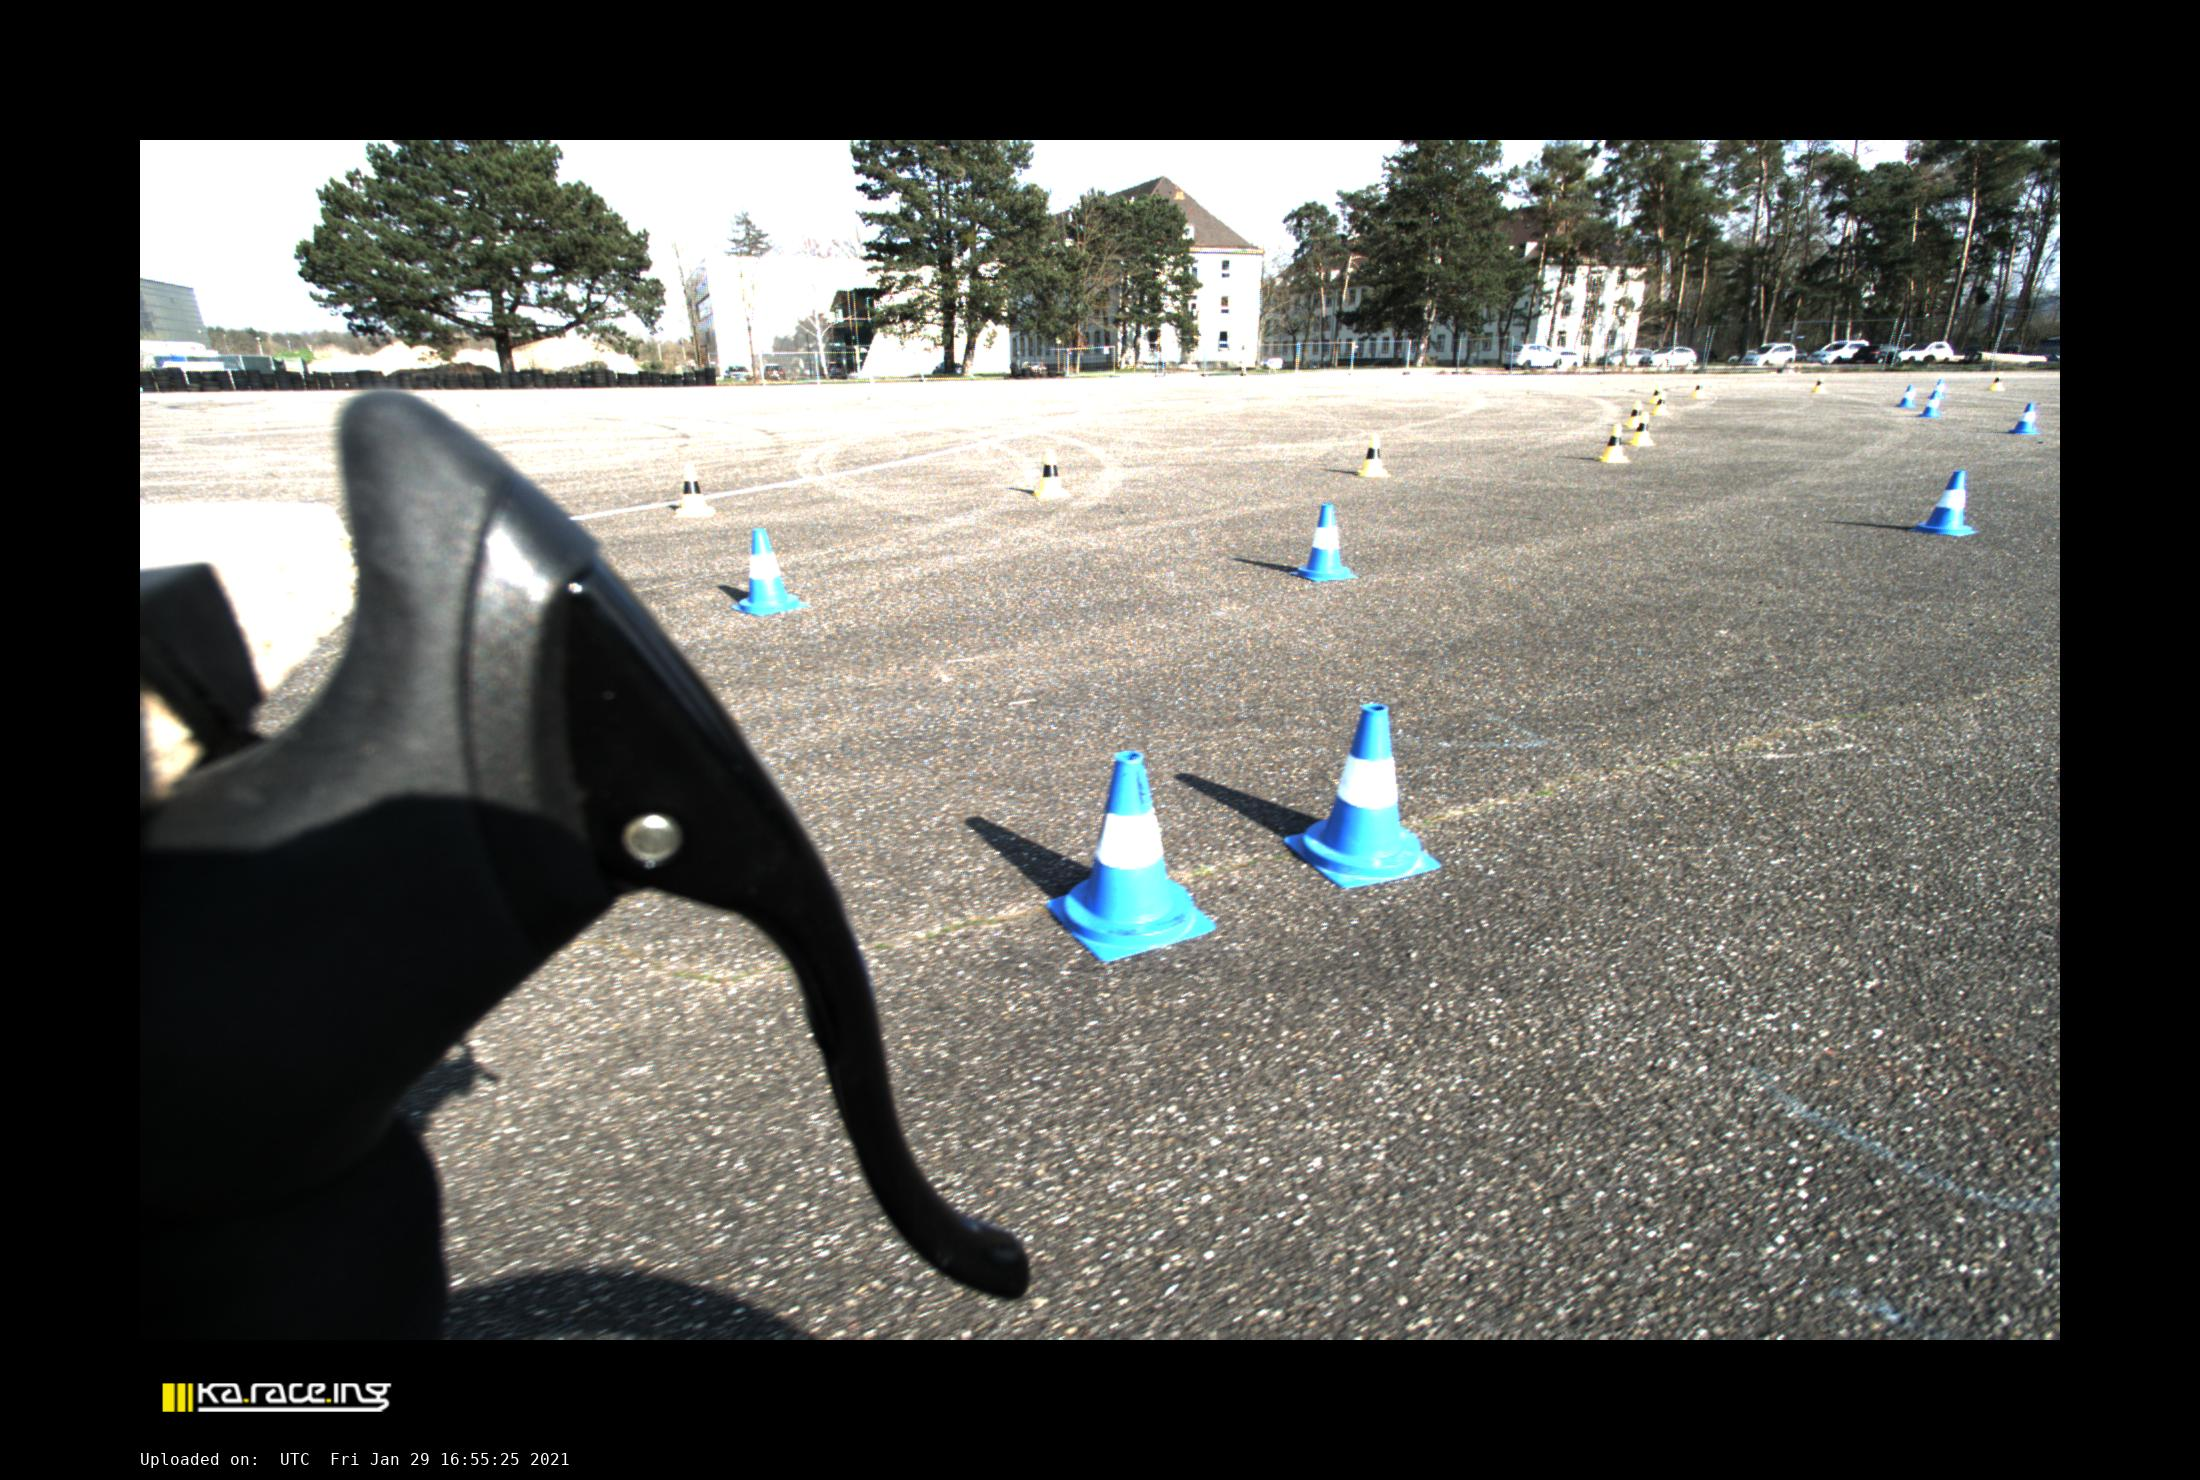blue_cone: (1047, 750, 1217, 963), (1283, 703, 1441, 889), (732, 529, 808, 617), (1290, 504, 1358, 582), (1908, 471, 1978, 536), (2008, 403, 2041, 434), (1916, 392, 1942, 418), (1895, 385, 1916, 408), (1928, 379, 1945, 399)
yellow_cone: (675, 463, 715, 518), (1033, 450, 1069, 498), (1357, 433, 1389, 477), (1599, 424, 1631, 463), (1628, 412, 1655, 446), (1625, 400, 1642, 427), (1651, 394, 1669, 415), (1810, 375, 1828, 393), (1989, 372, 2005, 391), (1692, 378, 1707, 398), (1649, 385, 1661, 403)
